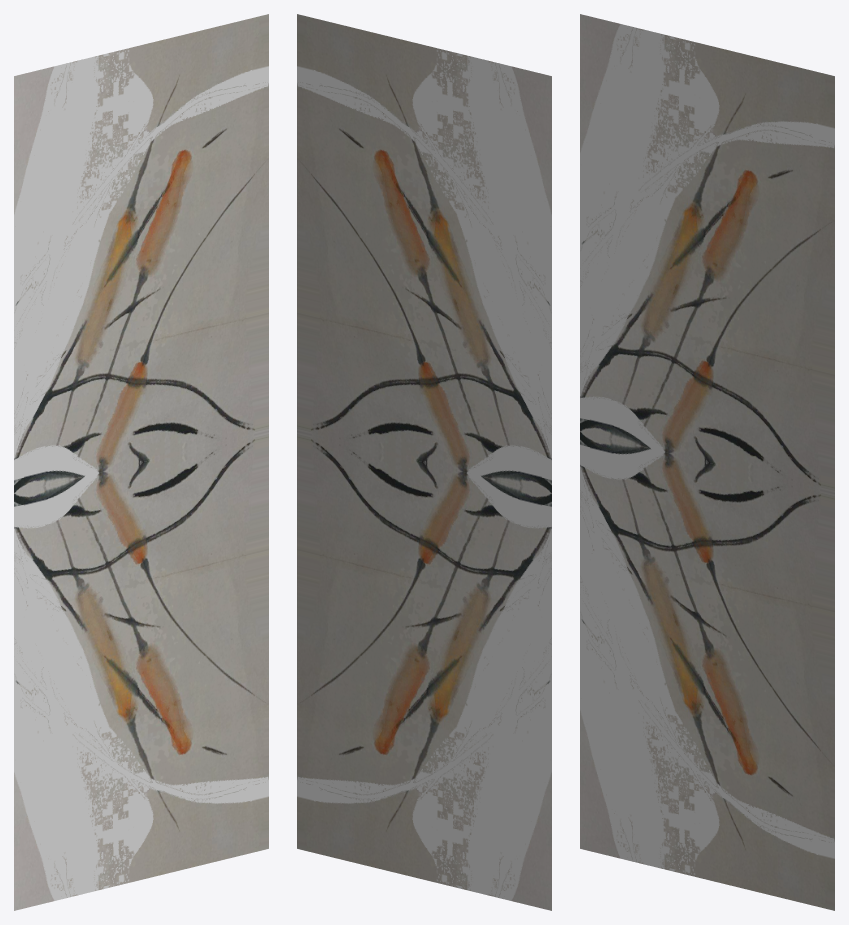
Rendered from PPX_REED11.fbx.
3 views of the same model, side by side, from view 1: azimuth 30°, elevation 25°; view 2: azimuth 150°, elevation 25°; view 3: azimuth 330°, elevation 25° (orthographic).
Parts seen in each view (by area): view 1: 图层 15.png, 图层 15.png_2; view 2: 图层 15.png, 图层 15.png_2; view 3: 图层 15.png, 图层 15.png_2.
Boxes of the visible parts, x1,y1,x2,y2 form: 图层 15.png: (14,14,268,493); 图层 15.png_2: (14,431,268,910); 图层 15.png: (297,14,551,493); 图层 15.png_2: (297,431,551,910); 图层 15.png: (580,14,834,493); 图层 15.png_2: (580,431,834,910).
Size of the model in its own units: 74.89 by 0 by 234.
Materials: 1 (1 with a texture image).
